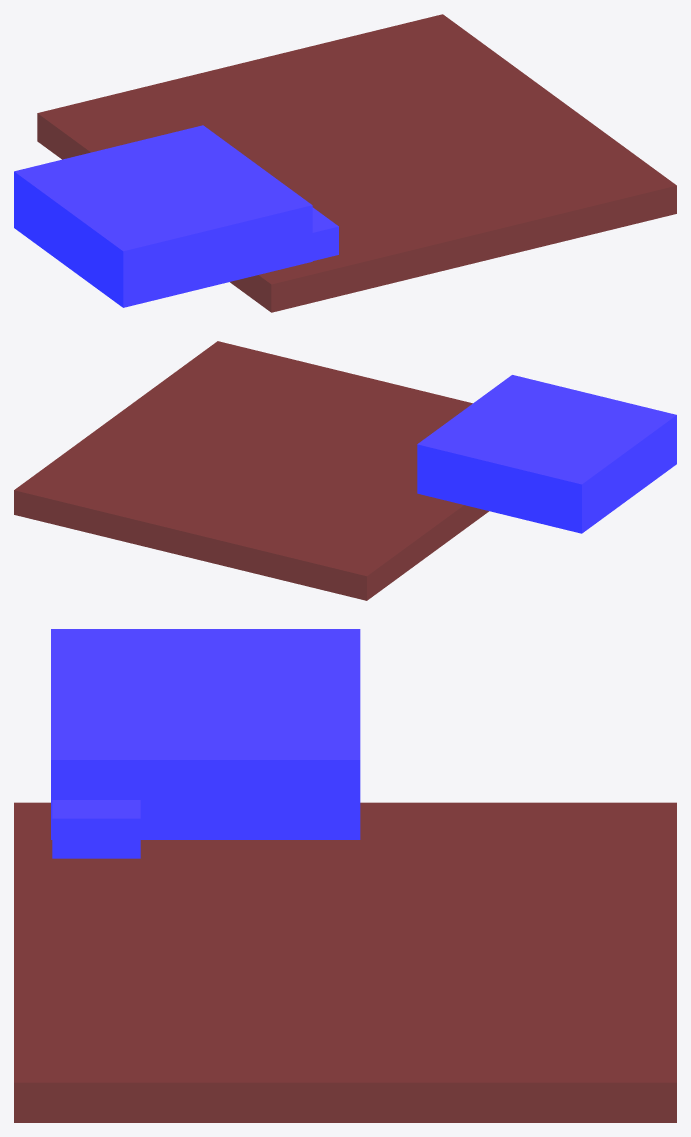
The model's file is floor1.fbx.
The picture shows the model from 3 angles, top to bottom: view 1: azimuth 30°, elevation 25°; view 2: azimuth 150°, elevation 25°; view 3: azimuth 270°, elevation 25°; orthographic projection. The views are drawn at different scales.
Parts seen in each view (by area): view 1: floor1; view 2: floor1; view 3: floor1.
Boxes of the visible parts, x1,y1,x2,y2 form: floor1: (14, 14, 676, 312); floor1: (14, 341, 676, 600); floor1: (14, 629, 676, 1122).
Size of the model in its own units: 2000 by 300 by 1500.
